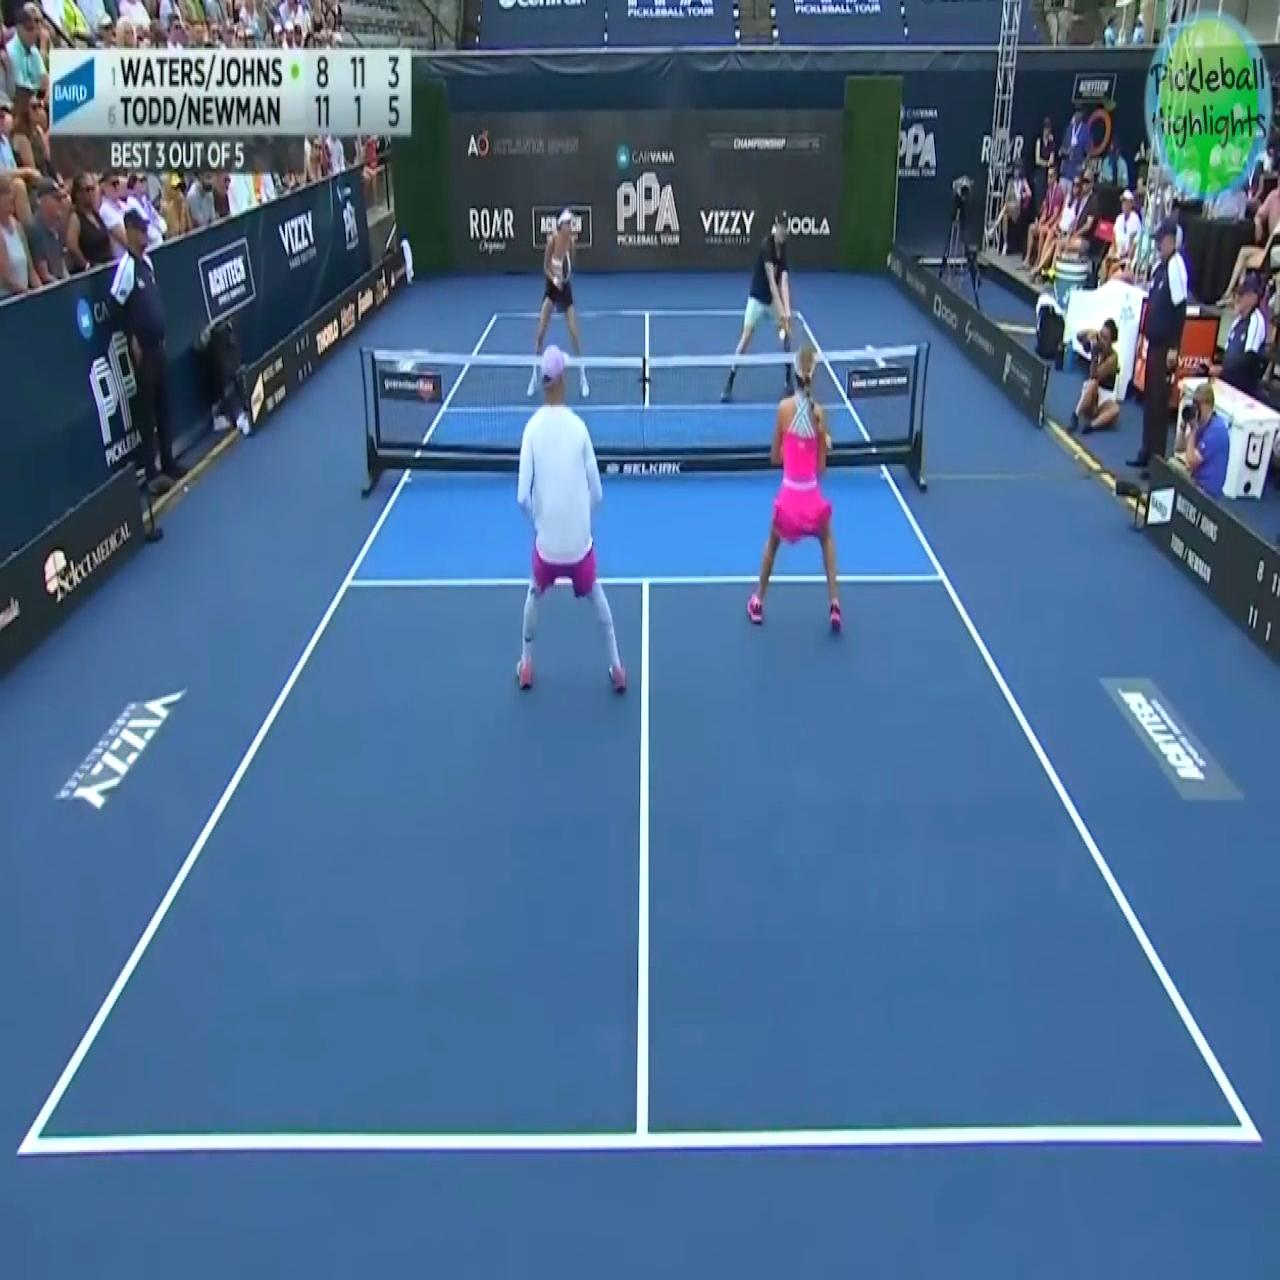Pickleball: (778, 320, 790, 343)
